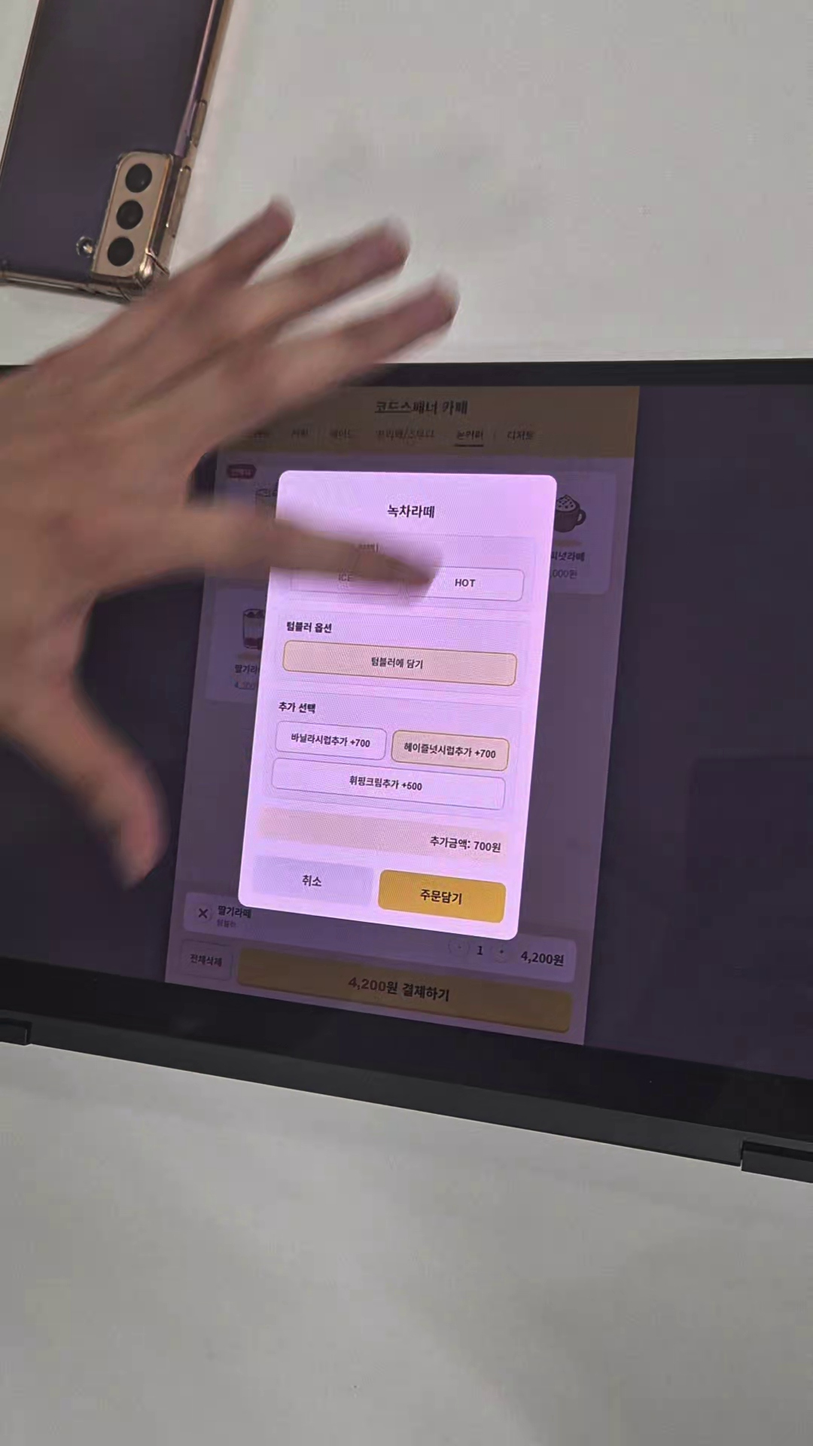action_button: (235, 949, 576, 1034), (378, 869, 507, 924), (253, 856, 373, 906), (178, 940, 233, 981)
menu_name: (385, 501, 439, 521)
option_button: (271, 758, 506, 810), (285, 640, 519, 685), (392, 730, 510, 771), (273, 722, 386, 760), (406, 566, 524, 602), (290, 560, 401, 595)
popup_modal: (240, 470, 557, 931)
